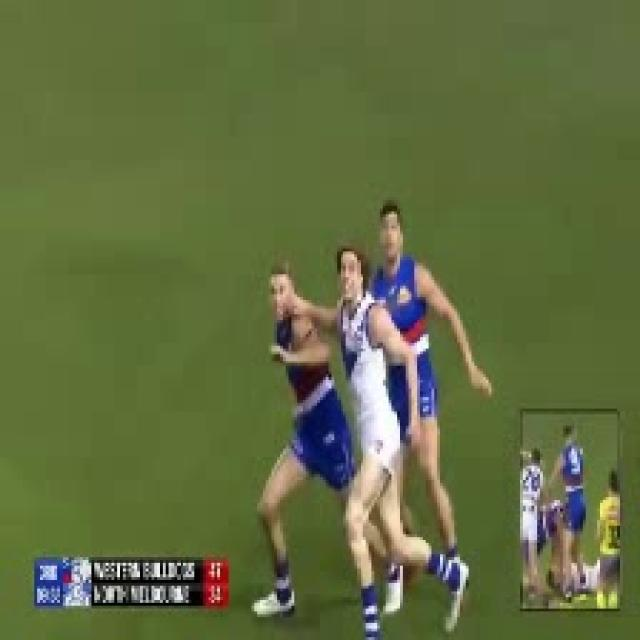non_violence: (310, 245, 424, 640), (240, 246, 358, 613)
